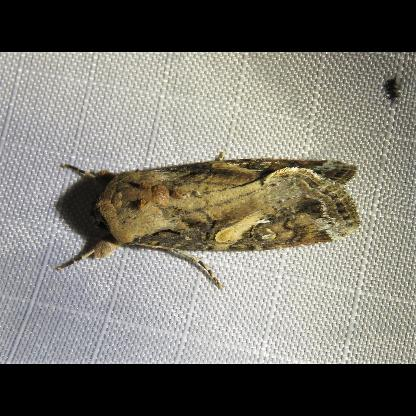Fall Armyworm Moth: (54, 148, 362, 292)
